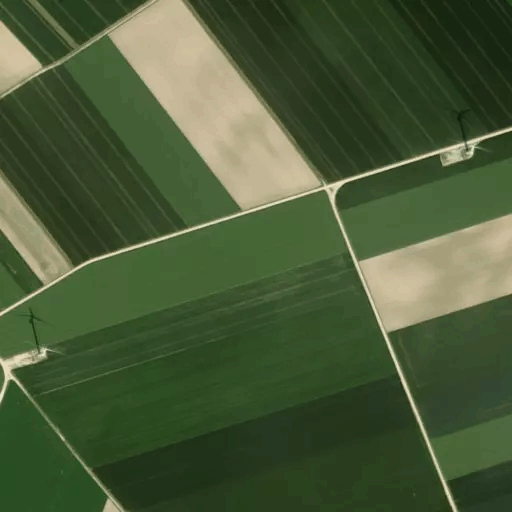wt: (431, 101, 493, 159), (11, 300, 65, 362)
